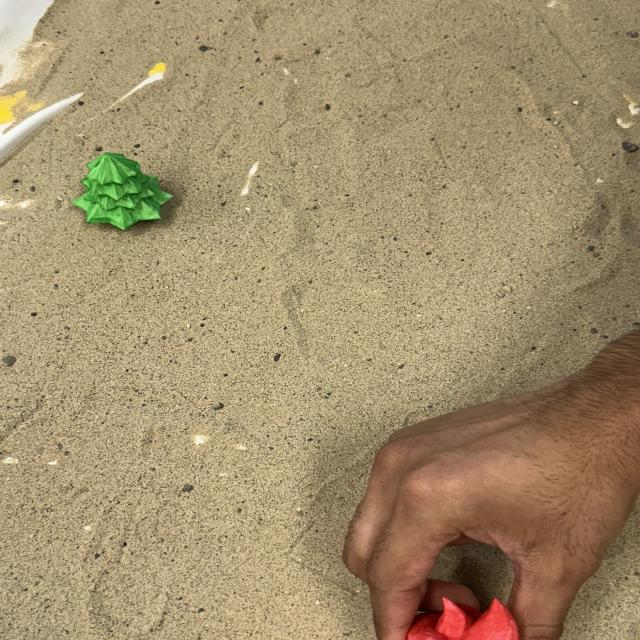fire: (404, 595, 520, 639)
tree: (70, 150, 174, 232)
